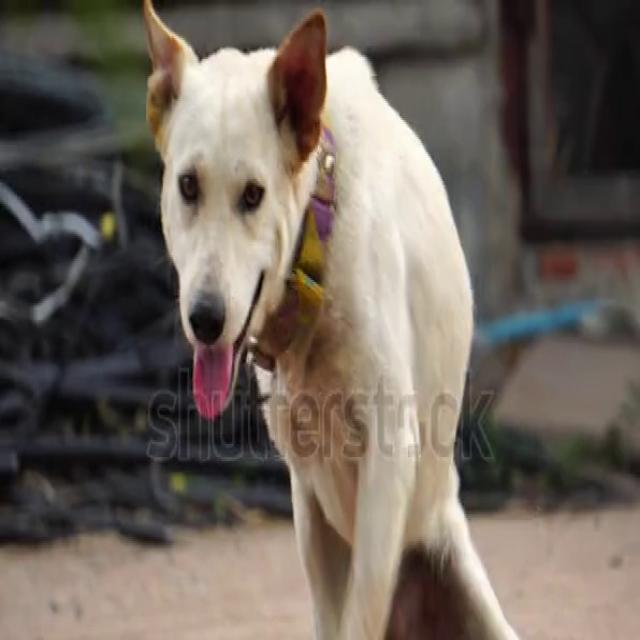injured-animals: (135, 0, 562, 638)
